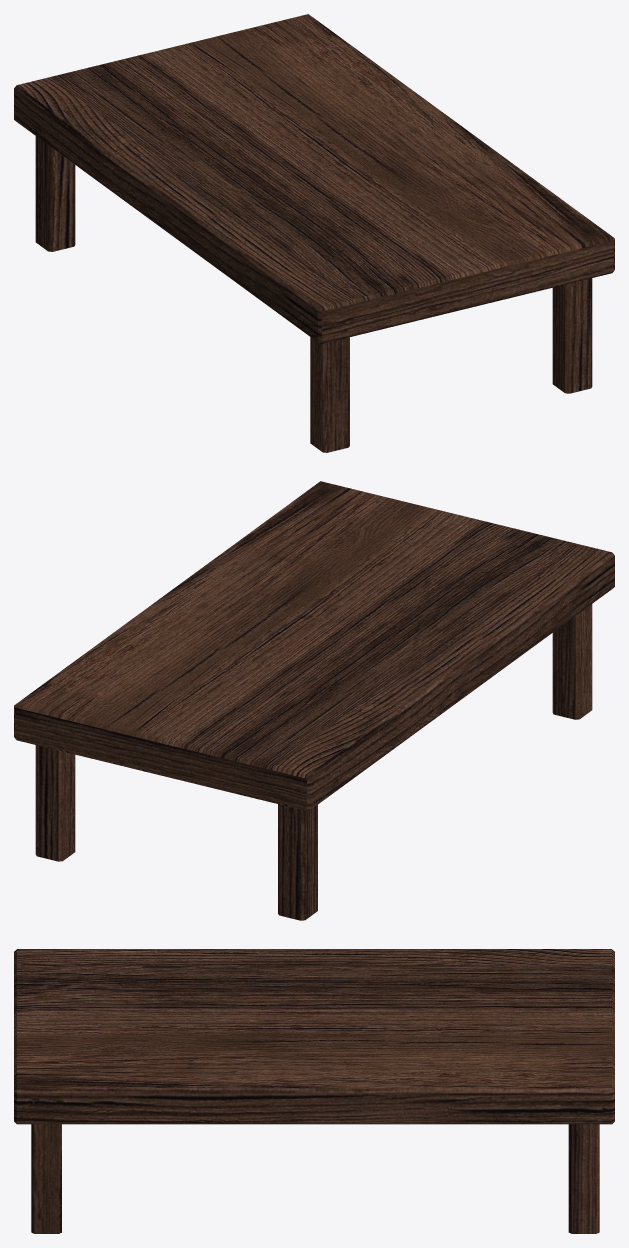
Rendered from coffee_table.fbx.
3 renders of one model, top to bottom at view 1: azimuth 30°, elevation 25°; view 2: azimuth 150°, elevation 25°; view 3: azimuth 270°, elevation 25°, orthographic. The views are drawn at different scales.
Visible parts, largest first — view 1: pCube3; view 2: pCube3; view 3: pCube3.
Boxes of the visible parts, bbox=[...] form: pCube3: bbox=[14, 14, 614, 452]; pCube3: bbox=[14, 481, 614, 920]; pCube3: bbox=[14, 949, 614, 1233].
Size of the model in its own units: 7.64 by 3.79 by 13.68.
